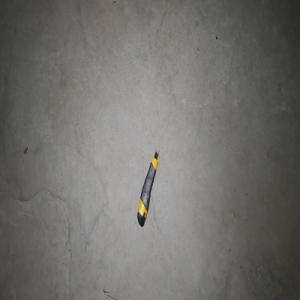Cutter: (136, 150, 159, 227)
